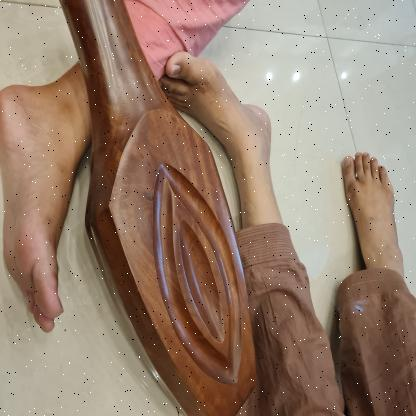leg: (0, 53, 90, 336), (158, 46, 286, 224), (338, 148, 405, 278)
